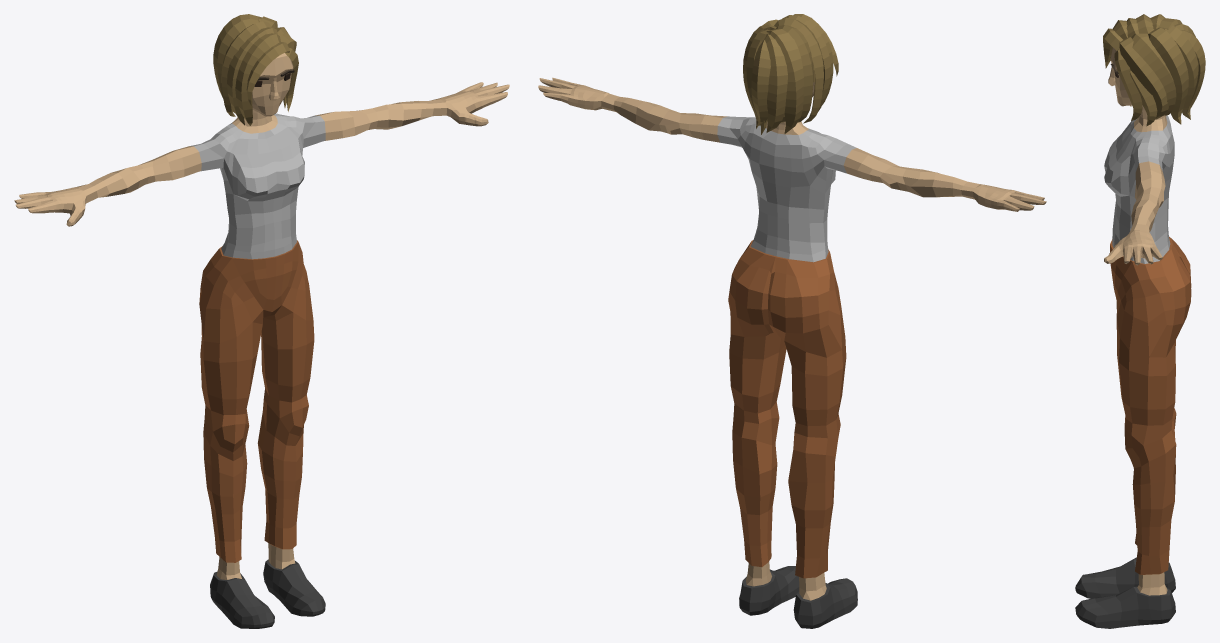
3 renders of one model, left to right at view 1: azimuth 30°, elevation 25°; view 2: azimuth 150°, elevation 25°; view 3: azimuth 270°, elevation 25°, orthographic. The views are drawn at different scales.
Parts seen in each view (by area): view 1: Casual_Legs, Casual_Body, Casual_Head, Casual_Feet; view 2: Casual_Legs, Casual_Body, Casual_Head, Casual_Feet; view 3: Casual_Legs, Casual_Head, Casual_Body, Casual_Feet.
Boxes of the visible parts, x1,y1,x2,y2 form: Casual_Legs: (199,240,314,562); Casual_Body: (14,82,509,259); Casual_Head: (213,14,298,125); Casual_Feet: (210,543,325,628); Casual_Legs: (728,240,846,578); Casual_Body: (538,77,1046,262); Casual_Head: (743,14,838,134); Casual_Feet: (739,561,857,628); Casual_Legs: (1110,236,1191,574); Casual_Head: (1103,14,1205,126); Casual_Body: (1104,17,1174,265); Casual_Feet: (1075,557,1175,628).
Bounding box in the file's own units: 1.65 × 1.85 × 0.3703.
